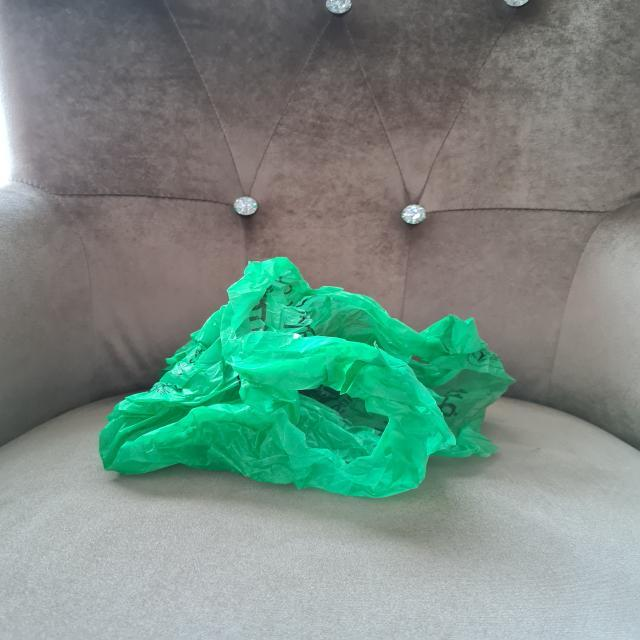plastic: (68, 243, 582, 500)
